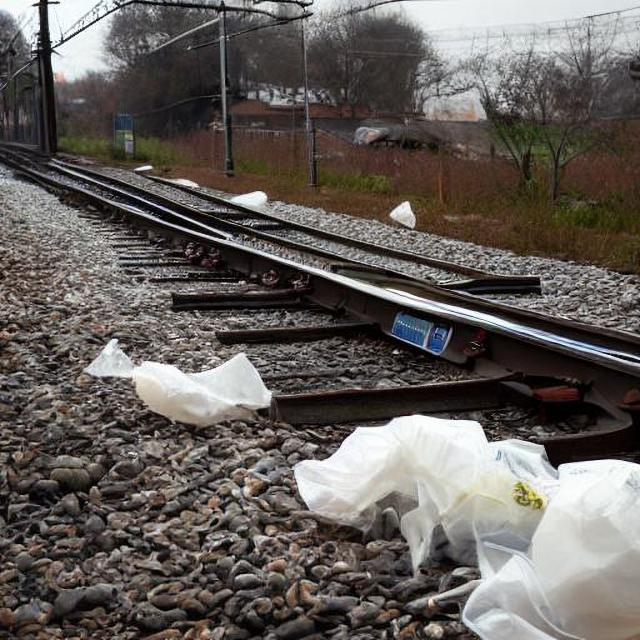plastic bag: (305, 374, 640, 640), (72, 315, 286, 454), (372, 189, 452, 245)
